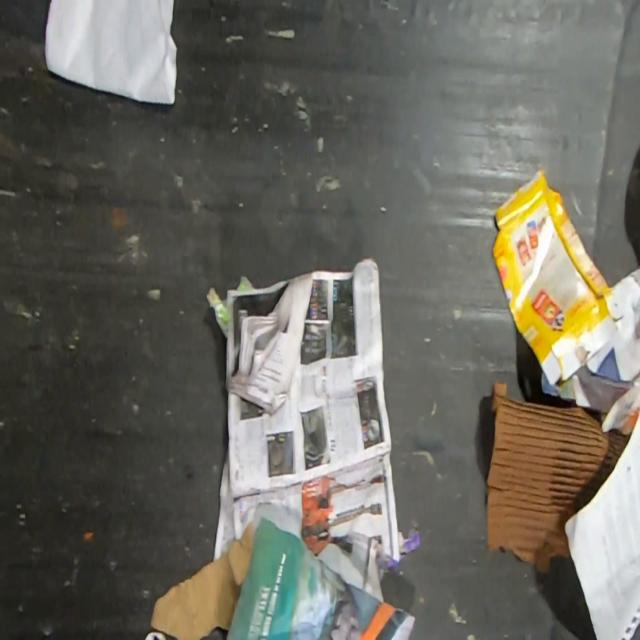cardboard: (492, 168, 626, 390), (485, 380, 630, 574), (149, 521, 256, 640)
